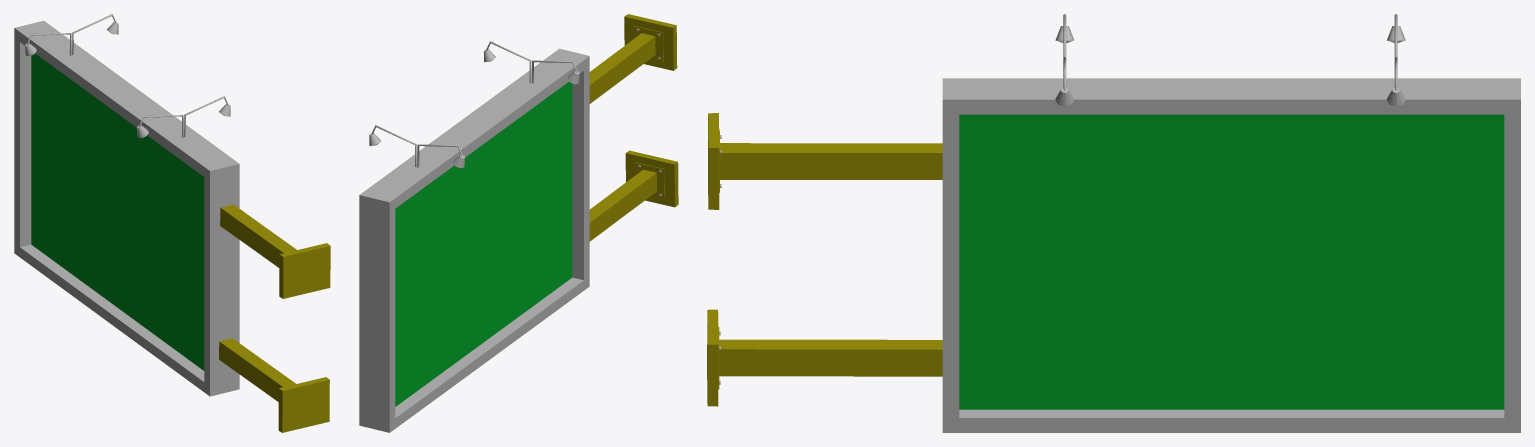
Rendered from billboard3.fbx.
3 views of the same model, side by side, from view 1: azimuth 30°, elevation 25°; view 2: azimuth 150°, elevation 25°; view 3: azimuth 270°, elevation 25° (orthographic). The views are drawn at different scales.
Visible parts, largest first — view 1: Box002; view 2: Box002; view 3: Box002.
Part boxes in pixels (x1,y1,x2,y2): Box002: (14,14,330,432); Box002: (359,14,678,432); Box002: (707,14,1520,432).
Bounding box in the file's own units: 90.32 × 238 × 463.
